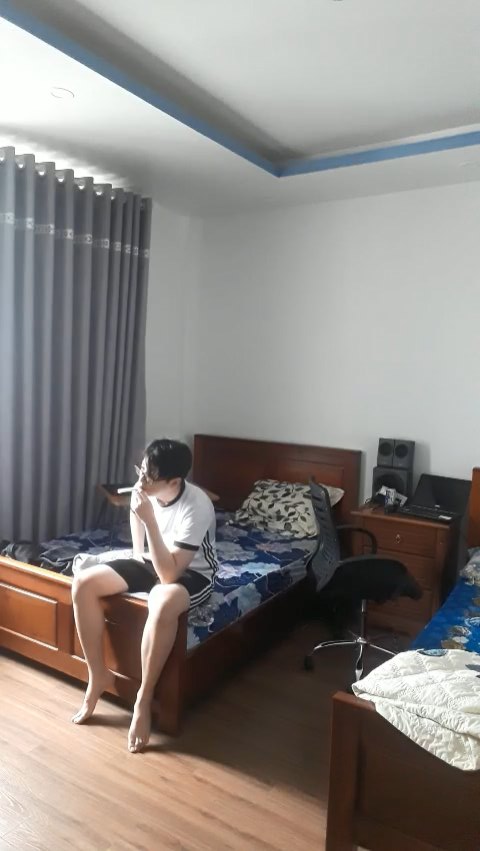cigarette: (117, 483, 143, 496)
person: (67, 427, 224, 747)
